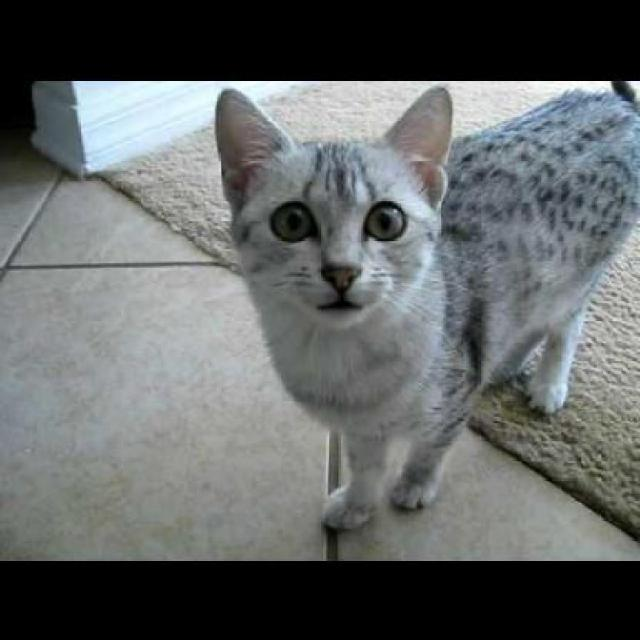unauthorized: (212, 78, 638, 531)
